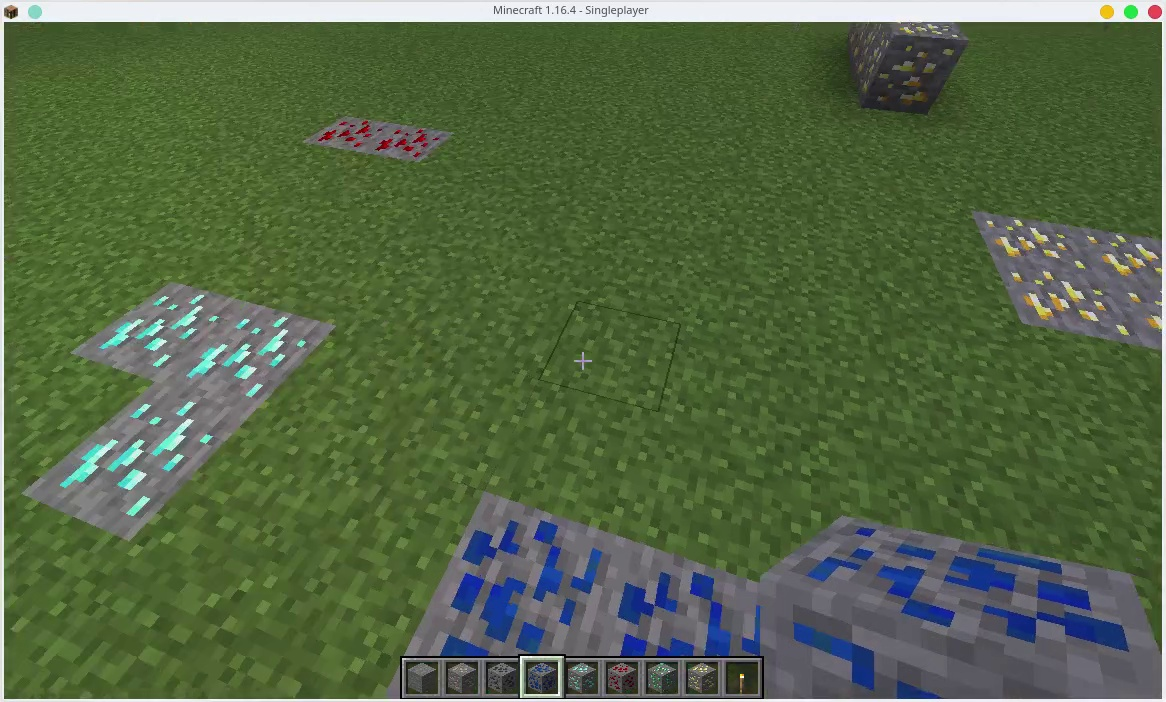gold: (876, 27, 949, 108), (685, 661, 718, 694)
